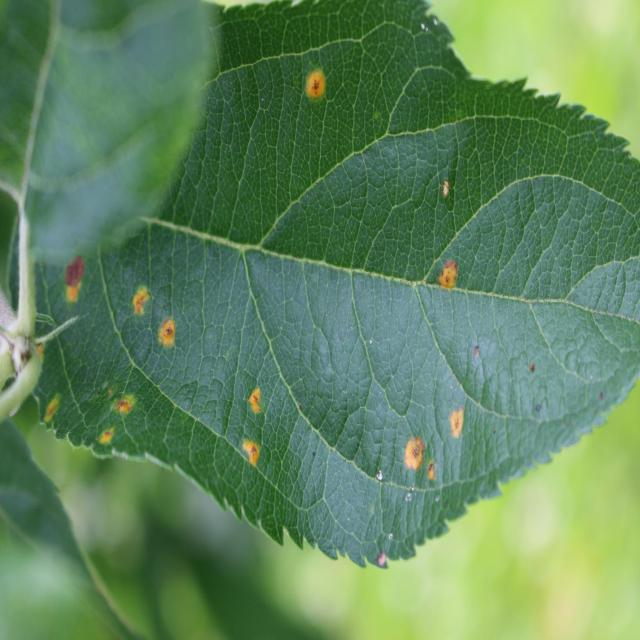Black Rot: (64, 246, 92, 283)
Rust: (231, 429, 273, 480), (298, 55, 330, 119), (430, 256, 470, 302), (150, 314, 188, 360), (448, 400, 479, 449), (243, 369, 269, 424), (397, 427, 427, 474), (93, 419, 121, 464), (126, 276, 153, 316), (39, 394, 63, 434), (110, 391, 140, 421), (61, 287, 82, 314)
